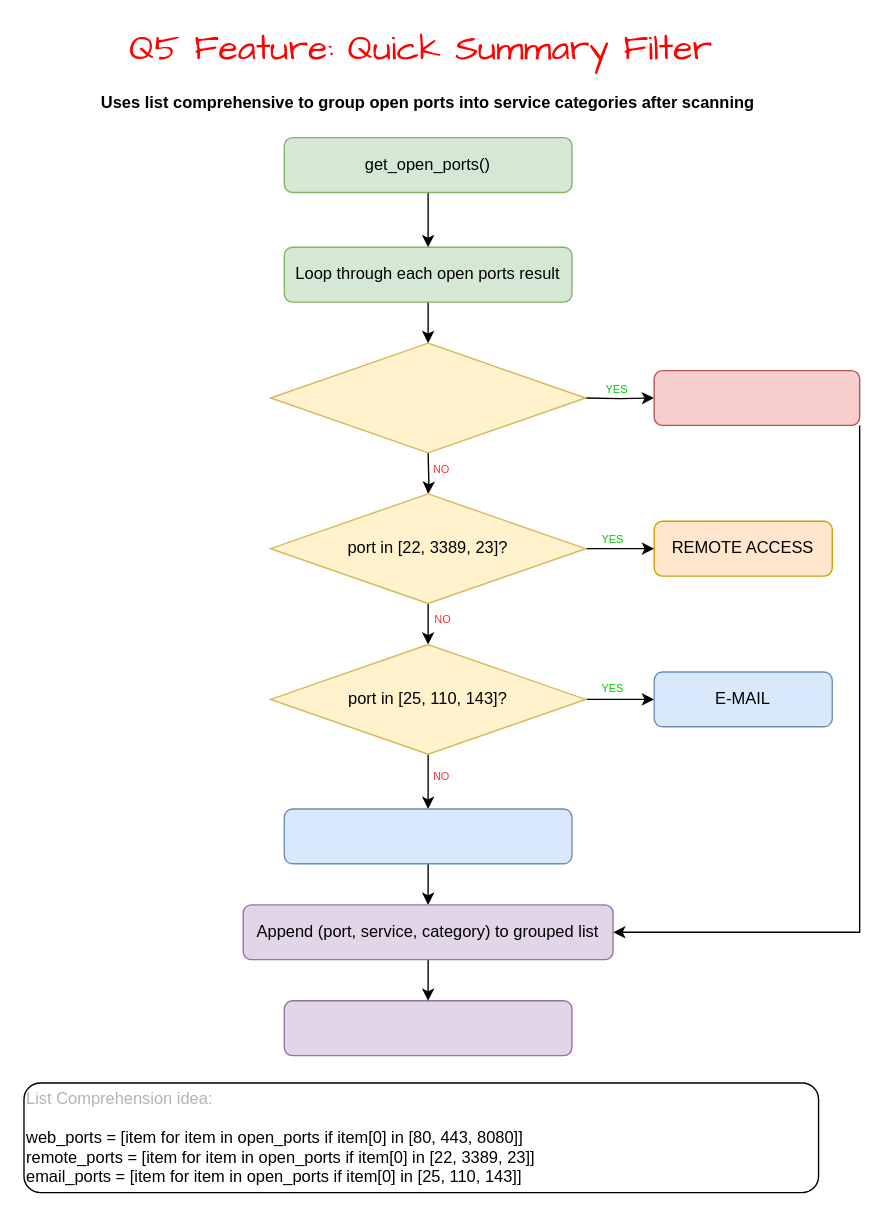
The diagram is 895 pixels wide and 1217 high, and some of its shapes have lost their labels. The centre of each missing label's shape, as x and y in pixels:
else: OTHER / UNKNOWN: (x=427, y=836)
port in [80, 443, 8080]?: (x=427, y=397)
Print grouped summary for the user: (x=427, y=1027)
WEB: (x=756, y=397)
